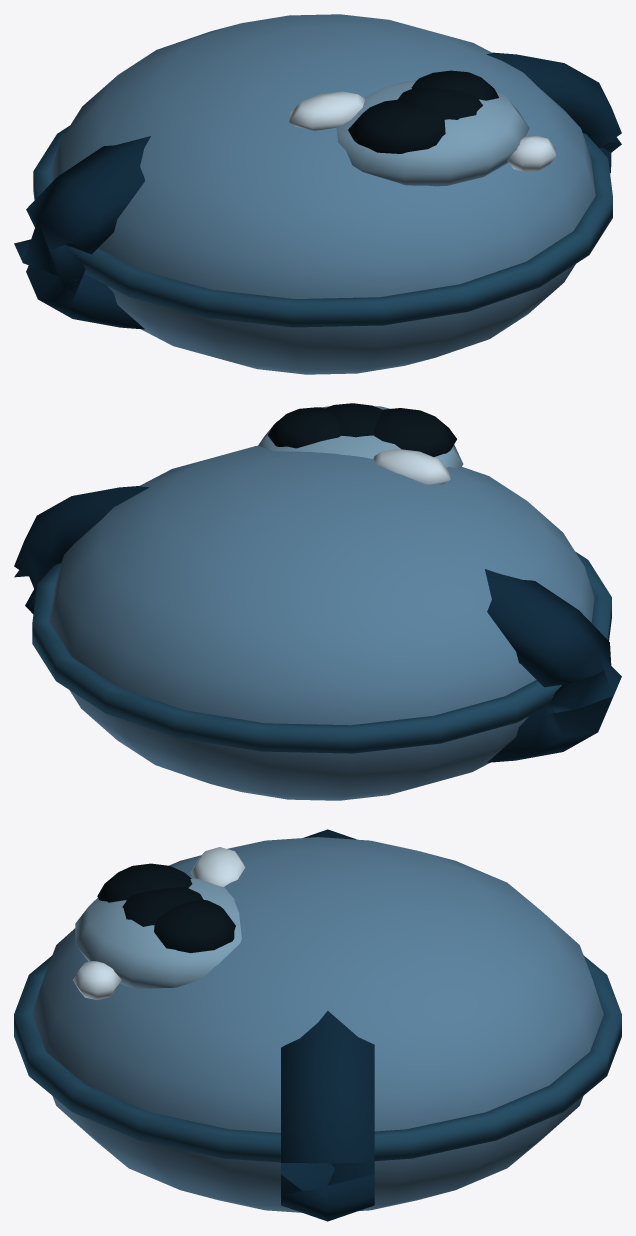
File: newshg-127.glb
3 renders of one model, top to bottom at view 1: azimuth 30°, elevation 25°; view 2: azimuth 150°, elevation 25°; view 3: azimuth 270°, elevation 25°, orthographic. The views are drawn at different scales.
Visible parts, largest first — view 1: newshg-127, newshg-127-mouth-127, newshg-127-mouth-129, newshg-127-mouth-131; view 2: newshg-127, newshg-127-mouth-127, newshg-127-mouth-131, newshg-127-mouth-129; view 3: newshg-127, newshg-127-mouth-131, newshg-127-mouth-127, newshg-127-mouth-129.
Part boxes in pixels (x1,y1,x2,y2): newshg-127: [14, 14, 621, 374]; newshg-127-mouth-127: [348, 99, 445, 153]; newshg-127-mouth-129: [398, 87, 482, 119]; newshg-127-mouth-131: [411, 70, 498, 100]; newshg-127: [14, 406, 621, 800]; newshg-127-mouth-127: [373, 408, 456, 456]; newshg-127-mouth-131: [267, 407, 341, 448]; newshg-127-mouth-129: [325, 403, 382, 437]; newshg-127: [14, 829, 621, 1221]; newshg-127-mouth-131: [154, 899, 235, 953]; newshg-127-mouth-127: [97, 863, 192, 902]; newshg-127-mouth-129: [122, 887, 203, 926].
Size of the model in its own units: 1.21 by 0.5523 by 1.03.
